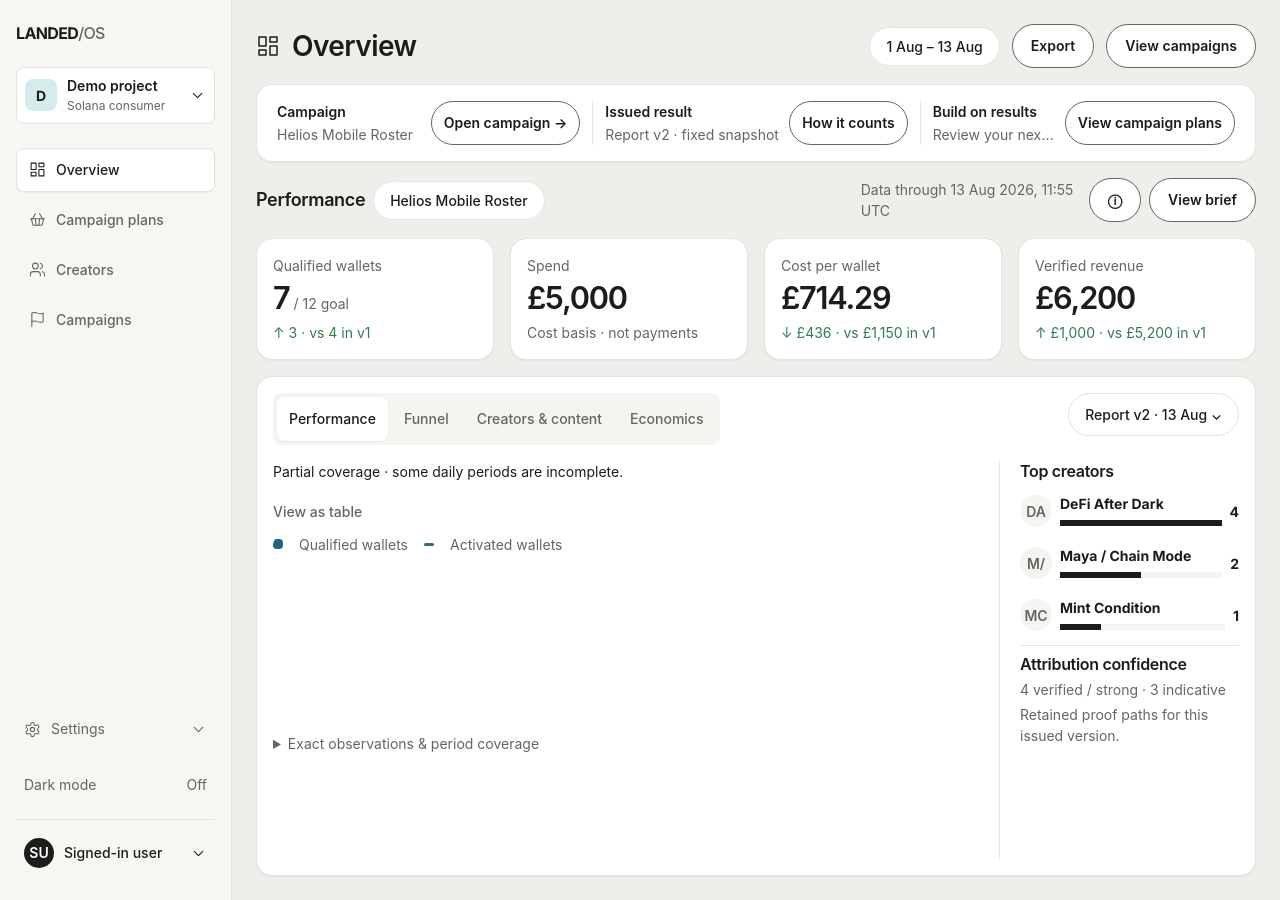
merged Overview › shows activated-only partial coverage on chart, table and trust details
Check: the message shows "Partial coverage", box [273, 463, 623, 480]
Click the button "View as table": (318, 512) [273, 490, 362, 534]
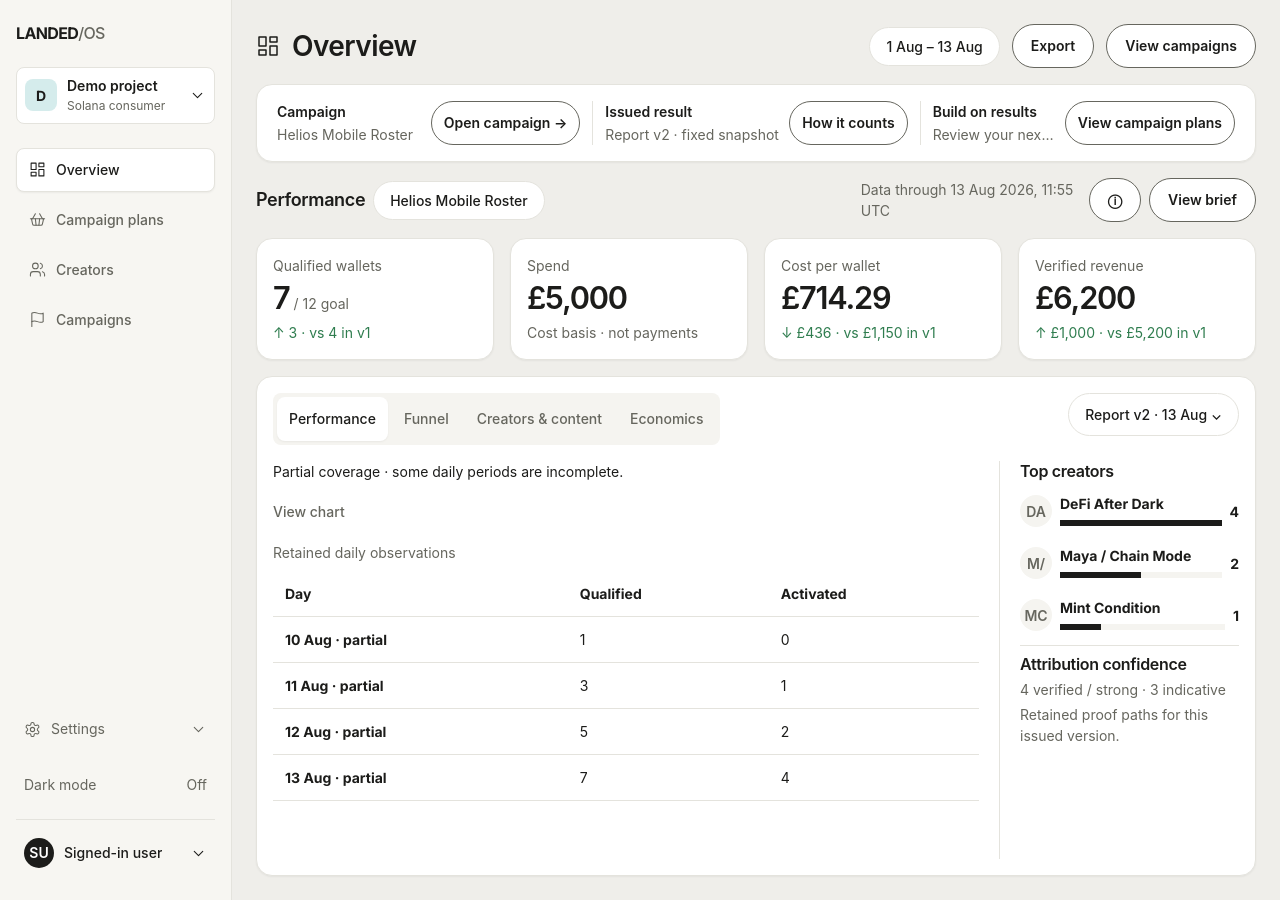
Check: the number of column headings "10 Aug · partial" is 4, box [273, 616, 568, 662]; [273, 662, 568, 708]; [273, 708, 568, 754]; [273, 754, 568, 800]
Click the button with aria-label "Qualified wallets:": (375, 299) [256, 238, 494, 360]
(page scrolled)
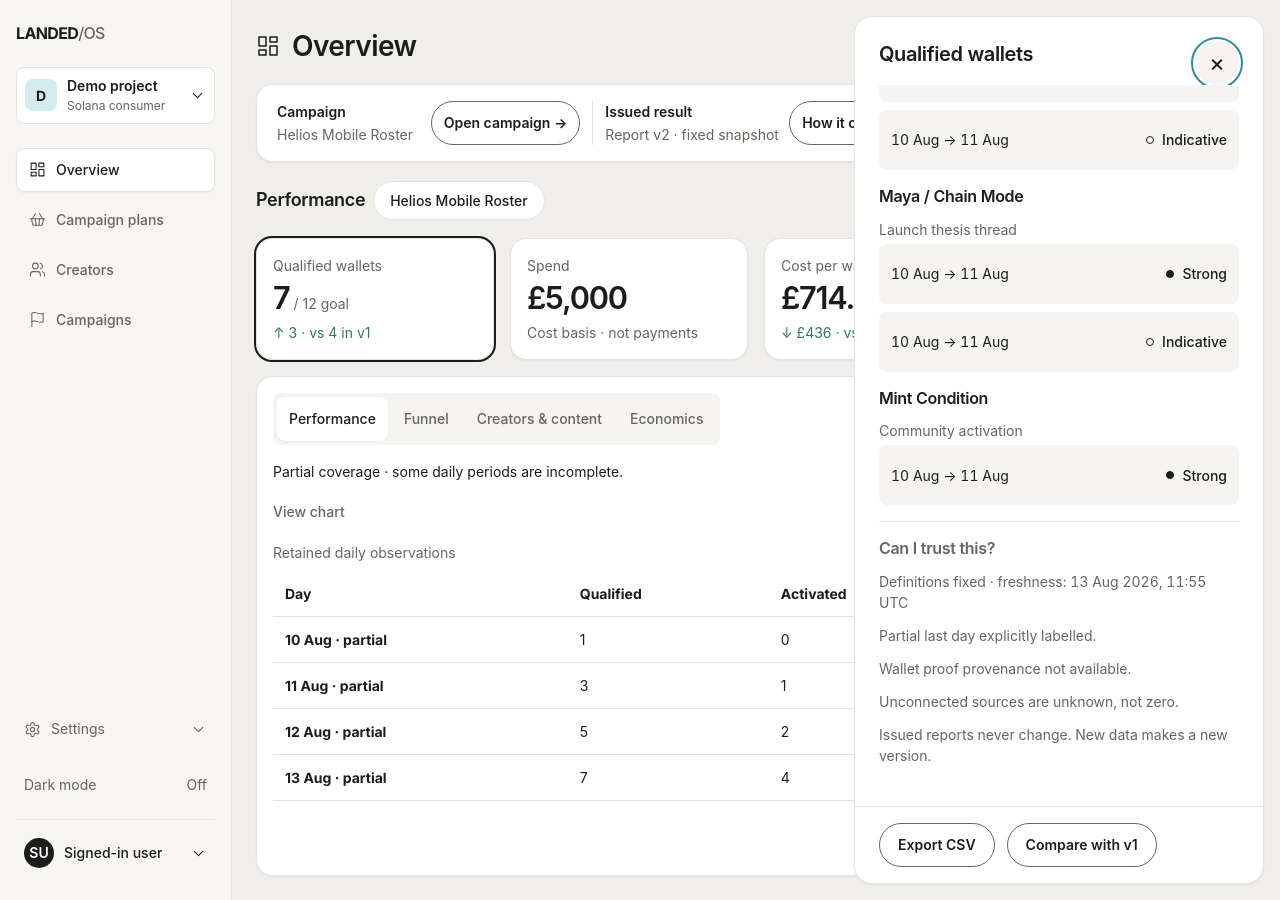
Check: the text "Partial last day explicitly labelled." is shown, box [879, 627, 1096, 644]
